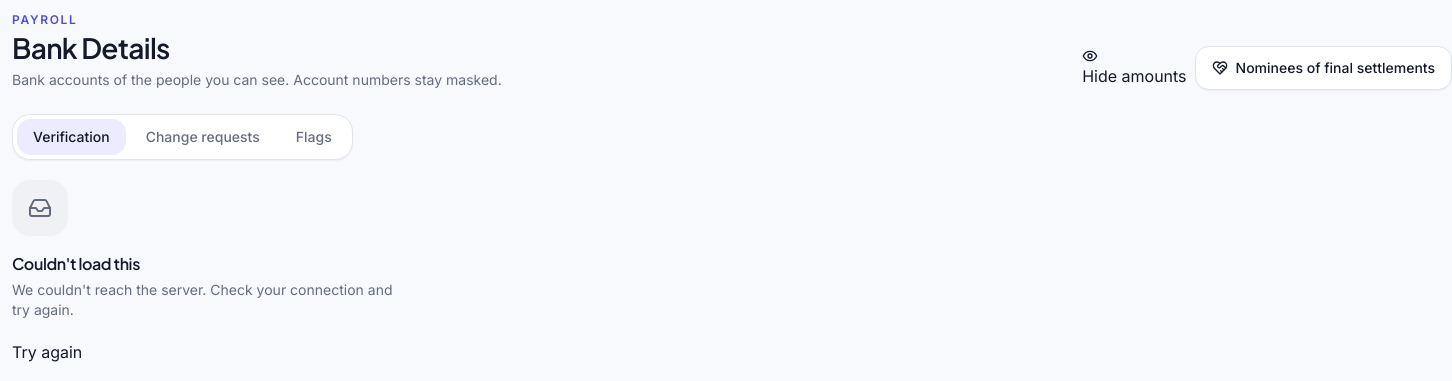
Scenario: Bank Details workspace › shows an error with retry
What coordinates should you click on to do the following:
click the button "Try again"
I would click on:
 (47, 352)
Its box is left=12, top=340, right=82, bottom=364.
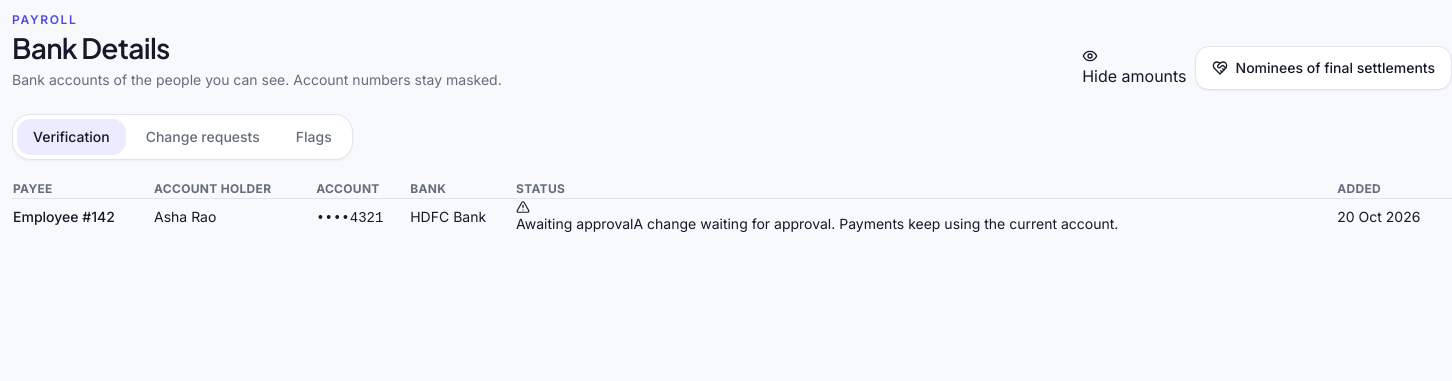
Check: the table named "Accounts waiting for verification" is shown, box left=12, top=180, right=1451, bottom=235
